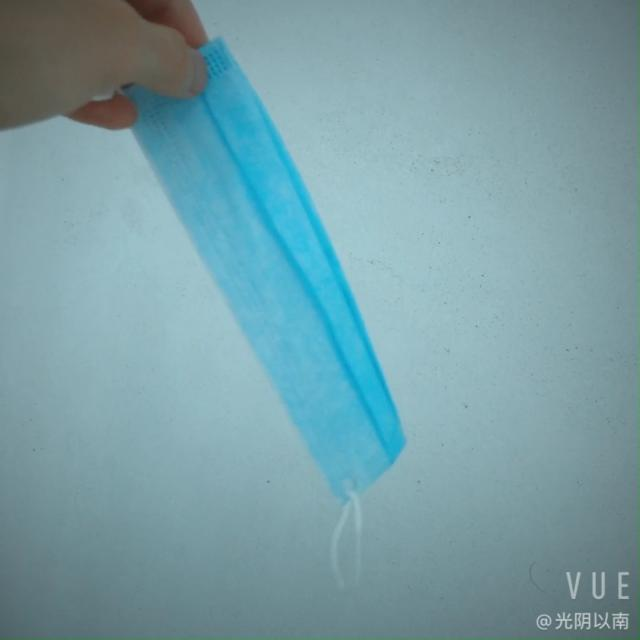face mask: (108, 21, 416, 526)
